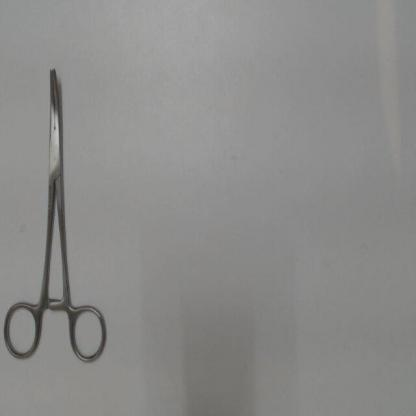Crile Artery Forceps: (0, 64, 115, 366)
